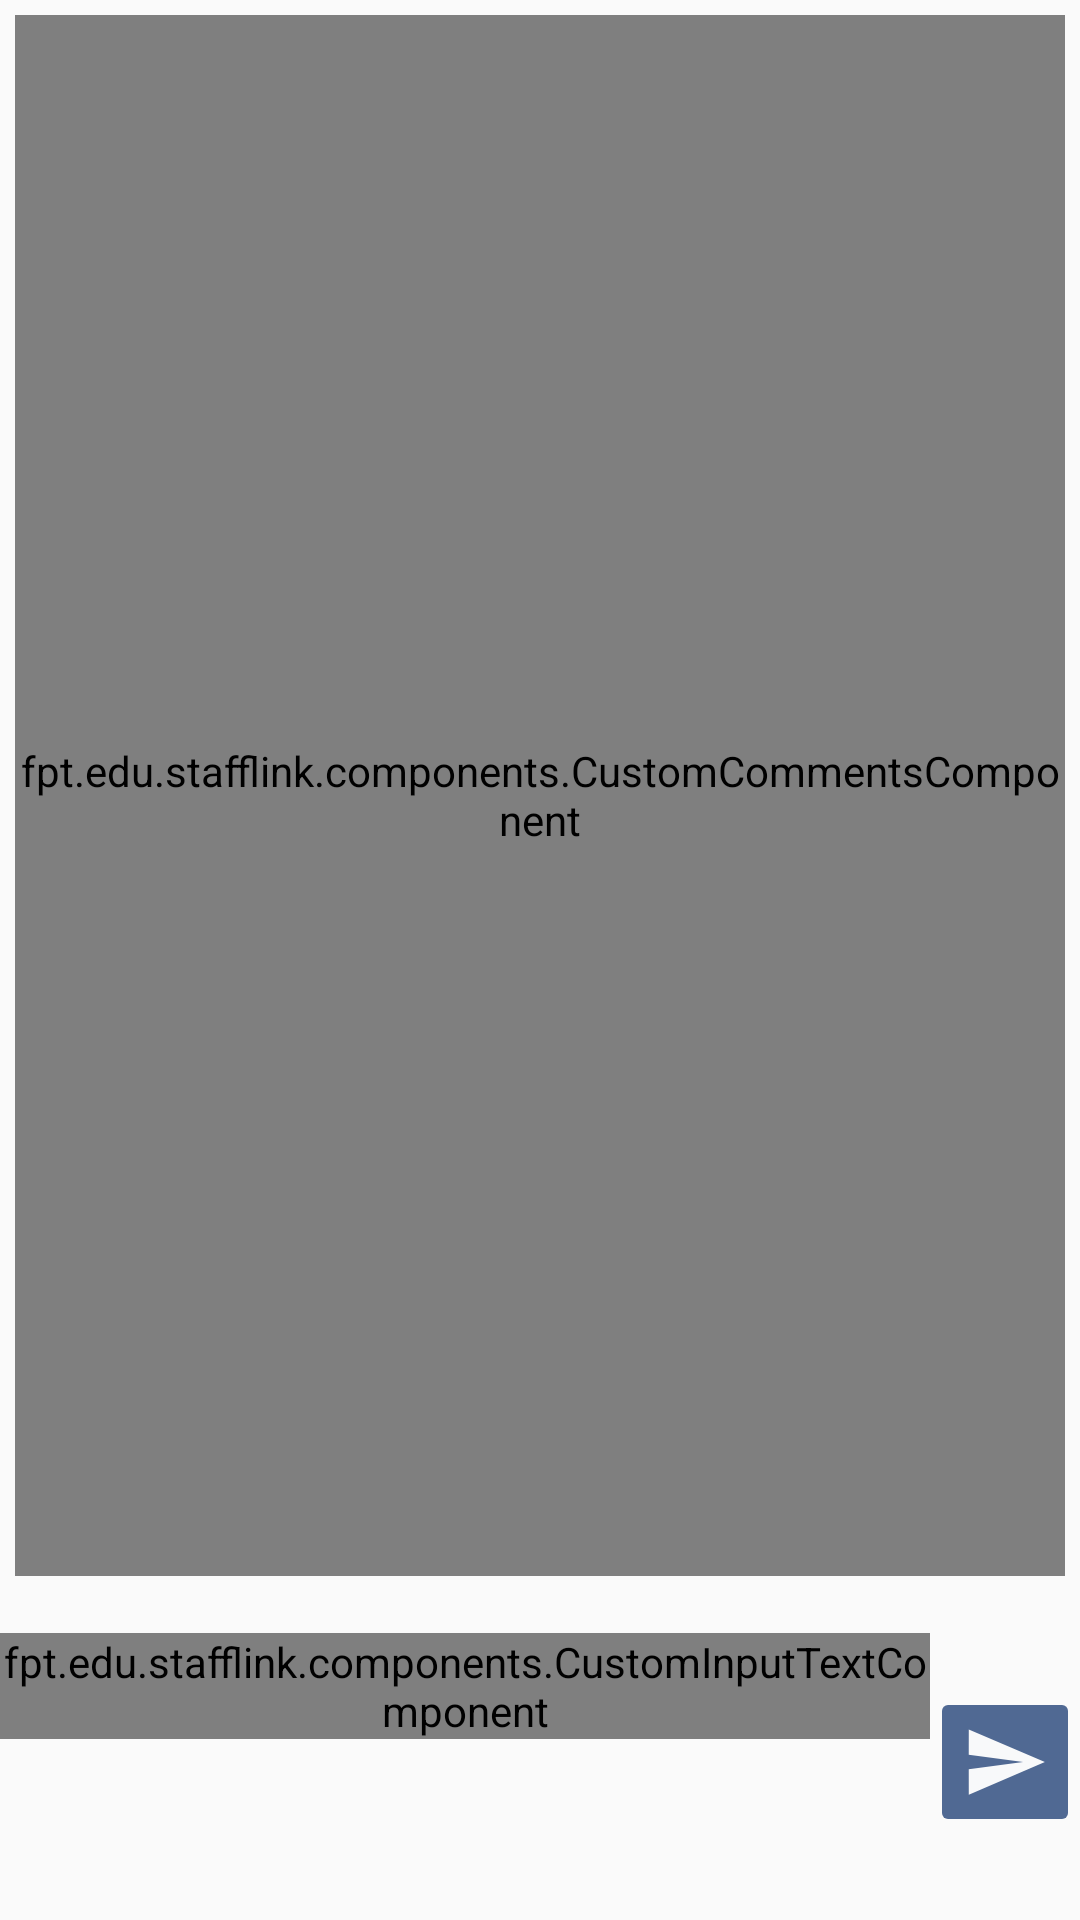

Named icons in this screenshot (1080×1920) and their bounding boxes, bbox=(x1, y1, x2, y2):
send: bbox=(942, 1705, 1068, 1819)
